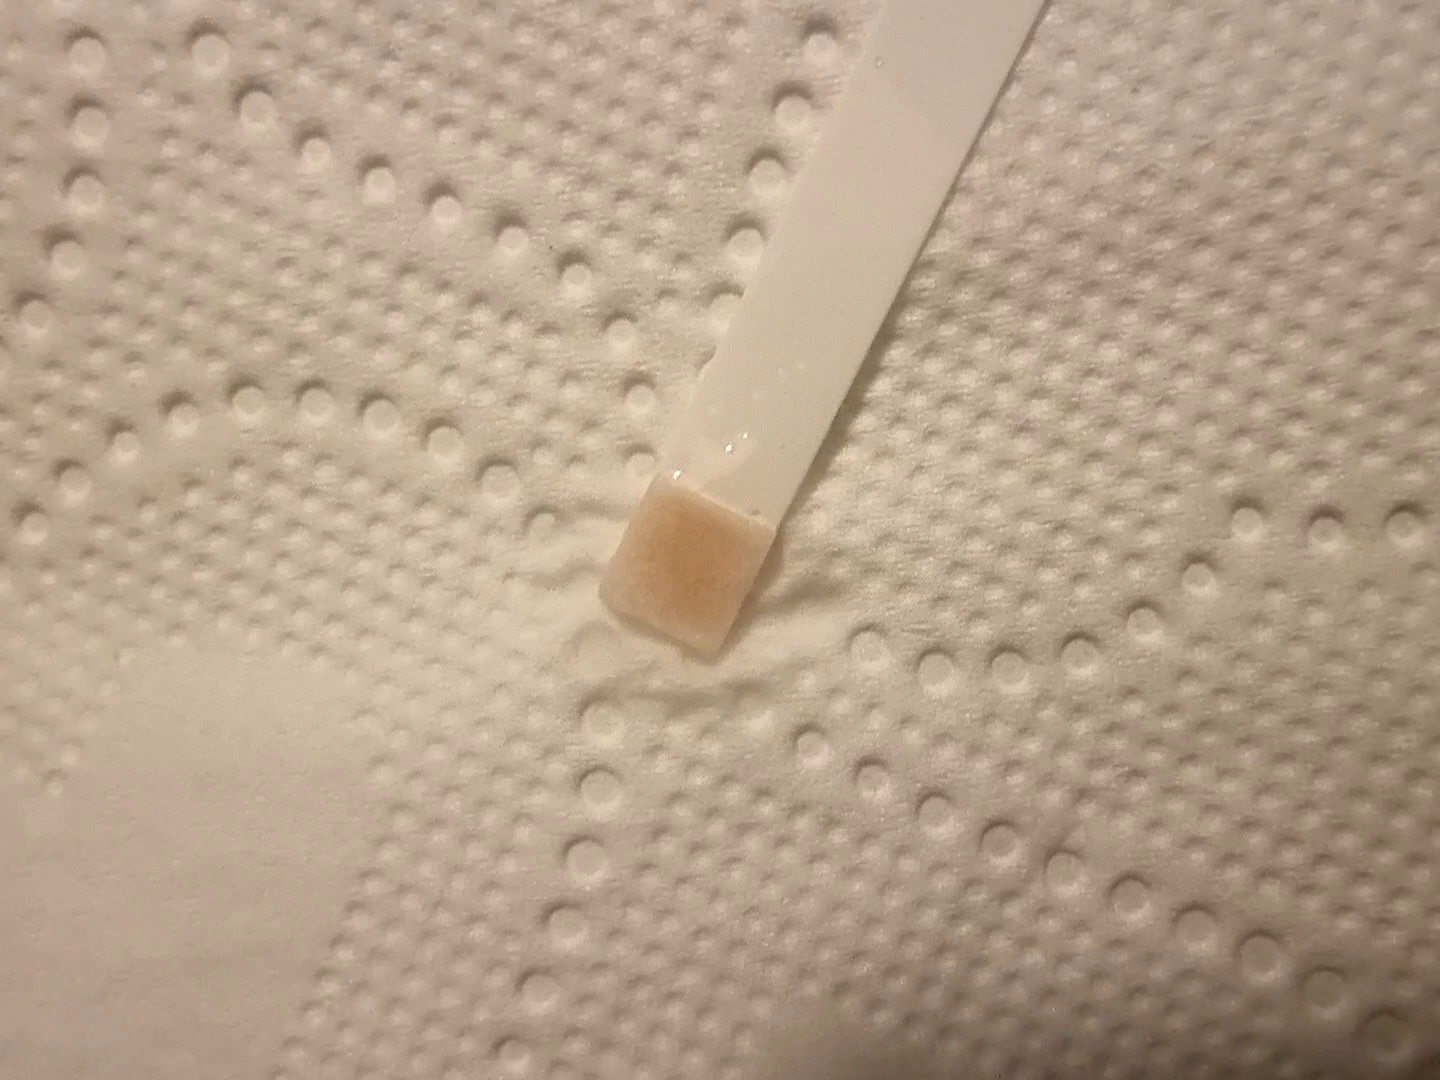keto-tip: (591, 469, 783, 663)
